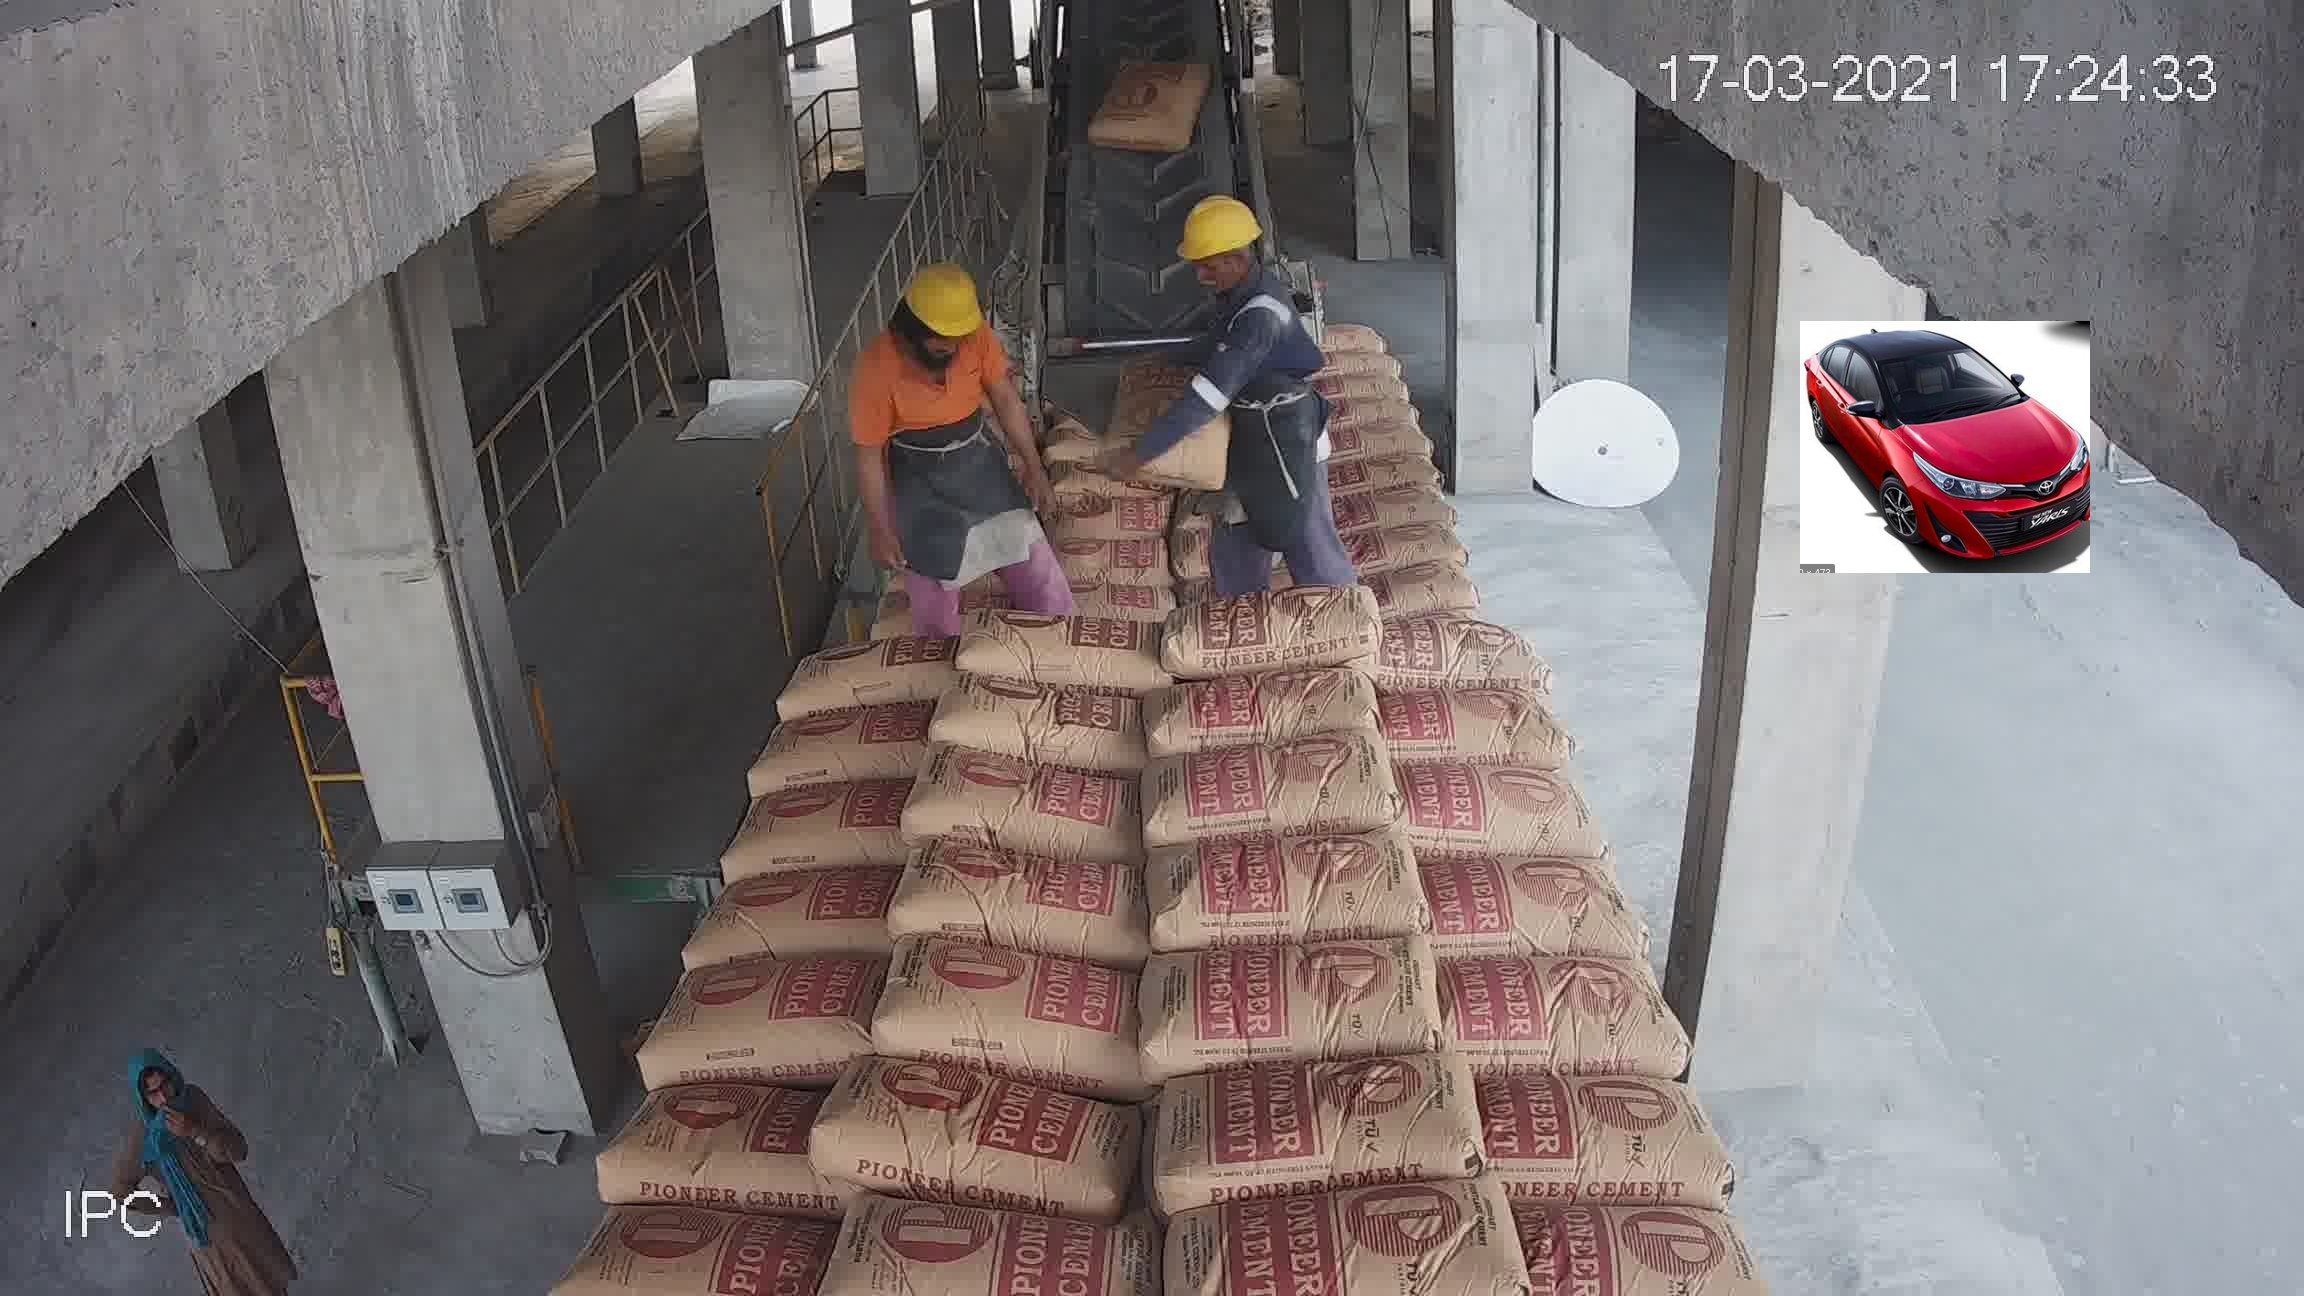bag_h: (1160, 1048, 1499, 1217), (1199, 1158, 1552, 1296), (810, 1169, 1184, 1296), (829, 1055, 1112, 1217), (1119, 938, 1438, 1068), (1090, 715, 1388, 850), (1146, 828, 1419, 959), (1446, 942, 1693, 1073), (1492, 1067, 1741, 1185), (1127, 646, 1389, 756), (1429, 840, 1649, 970), (892, 755, 1157, 858), (877, 968, 1147, 1068), (1150, 570, 1393, 680), (650, 866, 911, 967), (630, 968, 872, 1074), (870, 859, 1146, 949), (614, 1078, 831, 1190), (573, 1199, 862, 1280), (696, 772, 897, 888), (1405, 752, 1603, 866), (1502, 1214, 1755, 1296), (736, 703, 919, 801), (954, 657, 1128, 760), (1385, 680, 1576, 772), (1163, 527, 1362, 611), (980, 606, 1165, 696), (782, 562, 964, 646), (972, 551, 1150, 623), (783, 639, 951, 712), (942, 514, 1171, 567), (1386, 609, 1524, 692), (995, 411, 1143, 487), (1173, 404, 1340, 467), (1163, 446, 1321, 513), (1372, 555, 1532, 617), (994, 470, 1154, 529), (1339, 476, 1510, 529), (1173, 492, 1313, 555), (824, 487, 984, 543), (1051, 340, 1196, 396), (1342, 529, 1513, 571), (1340, 434, 1476, 484), (847, 457, 1000, 500), (810, 559, 964, 598), (1036, 312, 1166, 358), (1163, 329, 1250, 396)
belt: (1051, 9, 1260, 279)
